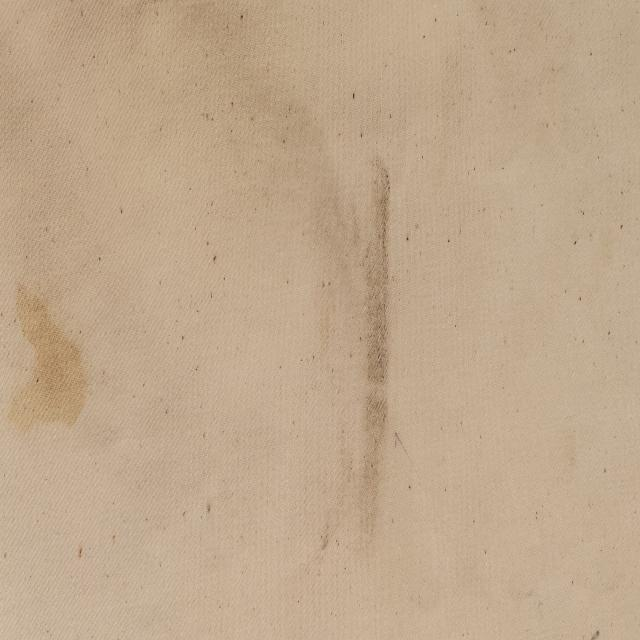taaaches: (318, 125, 414, 590), (3, 256, 97, 456)
